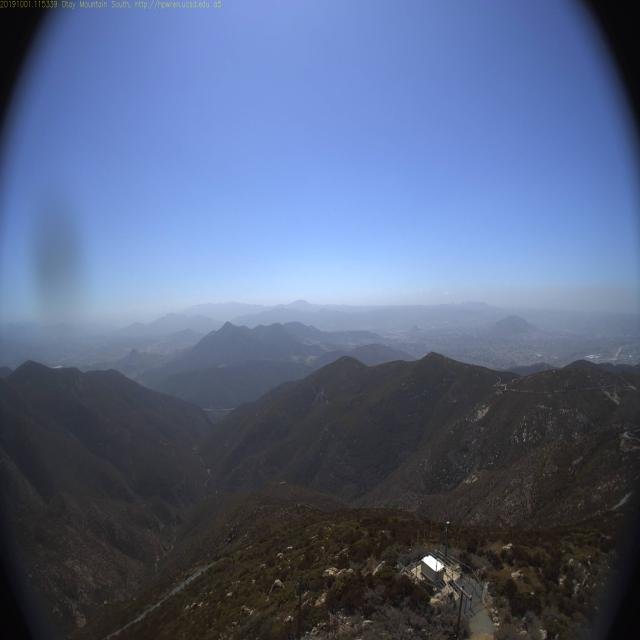smoke: (342, 328, 358, 354)
